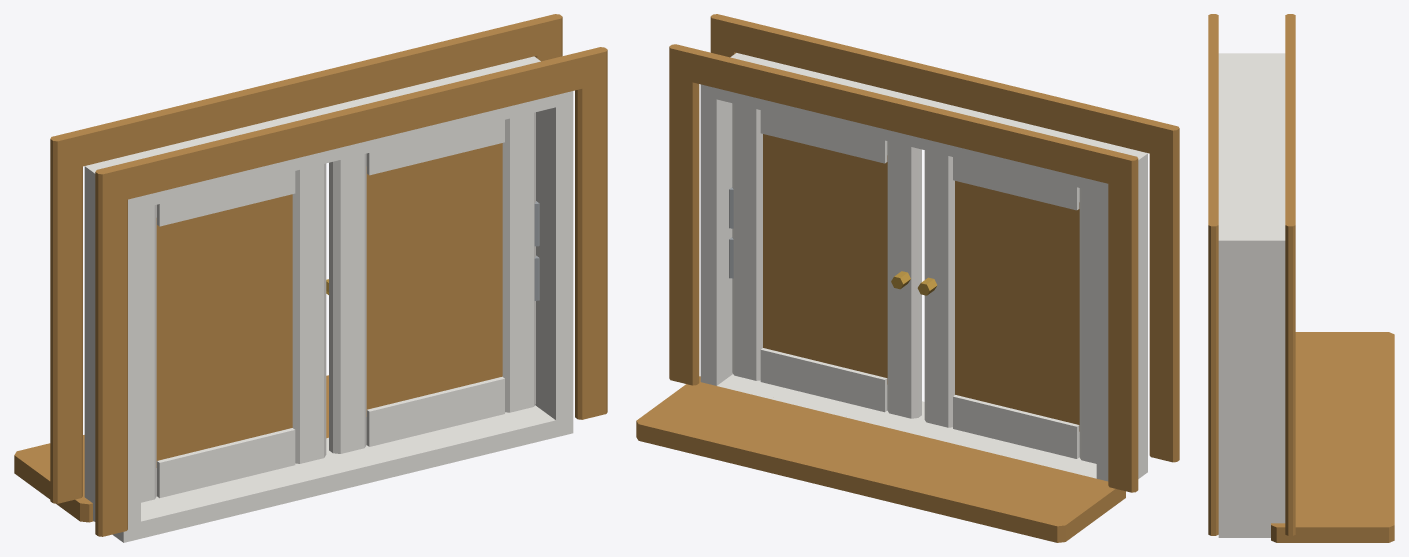
File: SM_LPI_Open_Hatch_01.fbx
3 views of the same model, side by side, from view 1: azimuth 30°, elevation 25°; view 2: azimuth 150°, elevation 25°; view 3: azimuth 270°, elevation 25° (orthographic). The views are drawn at different scales.
Parts seen in each view (by area): view 1: SM_LPI_Open_Hatch_01; view 2: SM_LPI_Open_Hatch_01; view 3: SM_LPI_Open_Hatch_01.
Part boxes in pixels (bbox=[...]): SM_LPI_Open_Hatch_01: bbox=[14, 14, 607, 542]; SM_LPI_Open_Hatch_01: bbox=[636, 14, 1179, 542]; SM_LPI_Open_Hatch_01: bbox=[1208, 14, 1394, 542].
Size of the model in its own units: 1.06 by 0.754 by 0.392.
